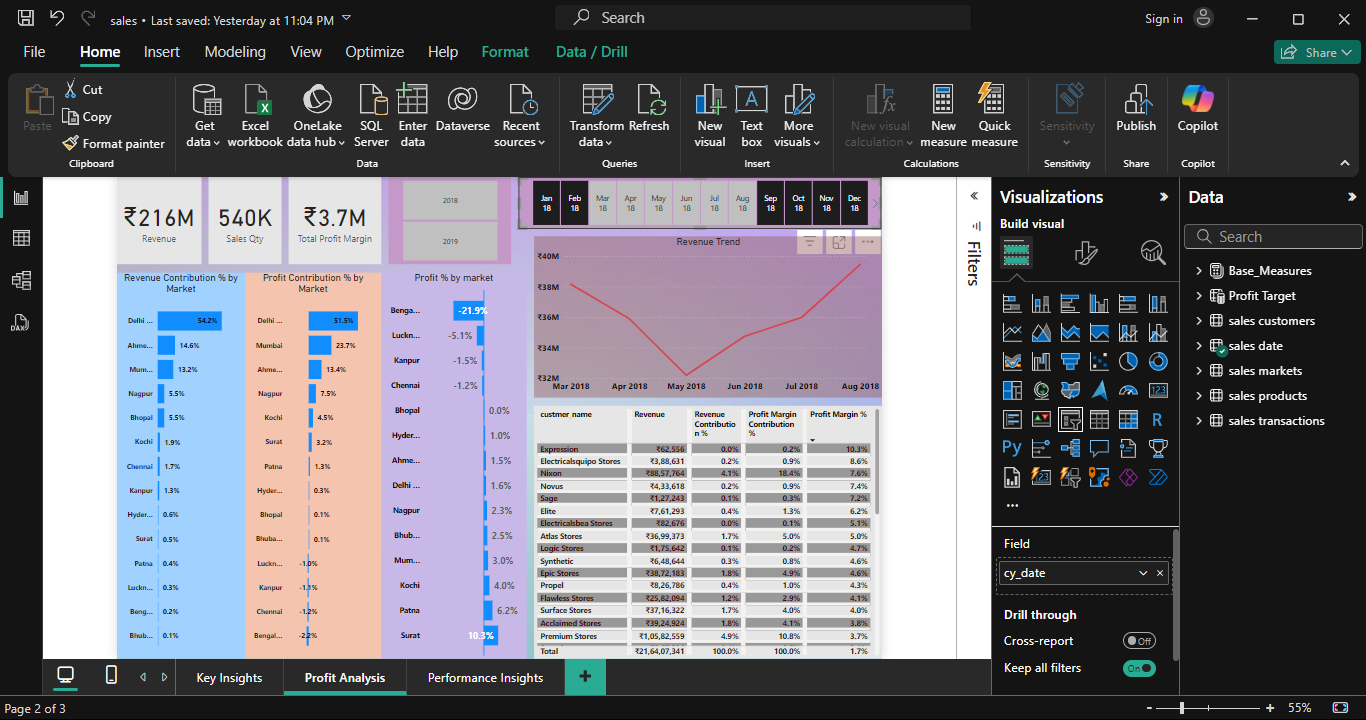

The page's visual inventory and layout, read from the dashboard file:
{"tool":"powerbi","page":{"name":"Profit Analysis","canvas":[1350,850],"ordinal":1},"visuals":[{"type":"card","fields":{"Values":["BaseMeasures (2).Revenue"]},"box":[0,0,148.6,154.1],"z":0},{"type":"card","fields":{"Values":["BaseMeasures (2).Sales Qty"]},"box":[161.4,0,128.4,154.1],"z":1000},{"type":"barChart","title":"Profit % by market","fields":{"Y":["BaseMeasures (2).Profit Margin %"],"Category":["sales markets.markets_name"]},"box":[466,168.8,256.8,680.6],"z":2000},{"type":"barChart","title":"Profit Contribution % by Market","fields":{"Y":["BaseMeasures (2).Profit Margin Contribution %"],"Category":["sales markets.markets_name"]},"box":[225.7,168.8,240.3,680.6],"z":3000},{"type":"slicer","fields":{"Values":["sales date.year"]},"box":[478.8,0,216.5,154.1],"z":4000},{"type":"slicer","fields":{"Values":["sales date.cy_date"]},"box":[708.1,0,640.3,91.7],"z":5000},{"type":"tableEx","title":"Top 5 Customers","fields":{"Values":["sales customers.custmer_name","BaseMeasures (2).Revenue","BaseMeasures (2).Revenue Contribution %","BaseMeasures (2).Profit Margin Contribution %","BaseMeasures (2).Profit Margin %"]},"box":[735.7,403.6,614.6,445.8],"z":6000},{"type":"lineChart","title":"Revenue Trend","fields":{"Y":["BaseMeasures (2).Revenue"],"Category":["sales date.cy_date"]},"box":[735.7,104.6,614.6,284.4],"z":7000},{"type":"card","fields":{"Values":["BaseMeasures (2).Total Profit Margin"]},"box":[302.7,0,163.3,154.1],"z":8000},{"type":"barChart","title":"Revenue Contribution % by Market","fields":{"Y":["BaseMeasures (2).Revenue Contribution %"],"Category":["sales markets.markets_name"]},"box":[0,168.8,225.7,680.6],"z":9000}]}

Visuals, with their boxes on the page's 1350x850 design canvas (x1, y1, x2, y2). These are canvas units, not pixel positions in the 1366x720 screenshot, which may show the page scaled, cropped or inside an application window:
card - BaseMeasures (2).Revenue: box(0, 0, 149, 154)
card - BaseMeasures (2).Sales Qty: box(161, 0, 290, 154)
"Profit % by market" barChart: box(466, 169, 723, 849)
"Profit Contribution % by Market" barChart: box(226, 169, 466, 849)
slicer - sales date.year: box(479, 0, 695, 154)
slicer - sales date.cy_date: box(708, 0, 1348, 92)
"Top 5 Customers" tableEx: box(736, 404, 1350, 849)
"Revenue Trend" lineChart: box(736, 105, 1350, 389)
card - BaseMeasures (2).Total Profit Margin: box(303, 0, 466, 154)
"Revenue Contribution % by Market" barChart: box(0, 169, 226, 849)
